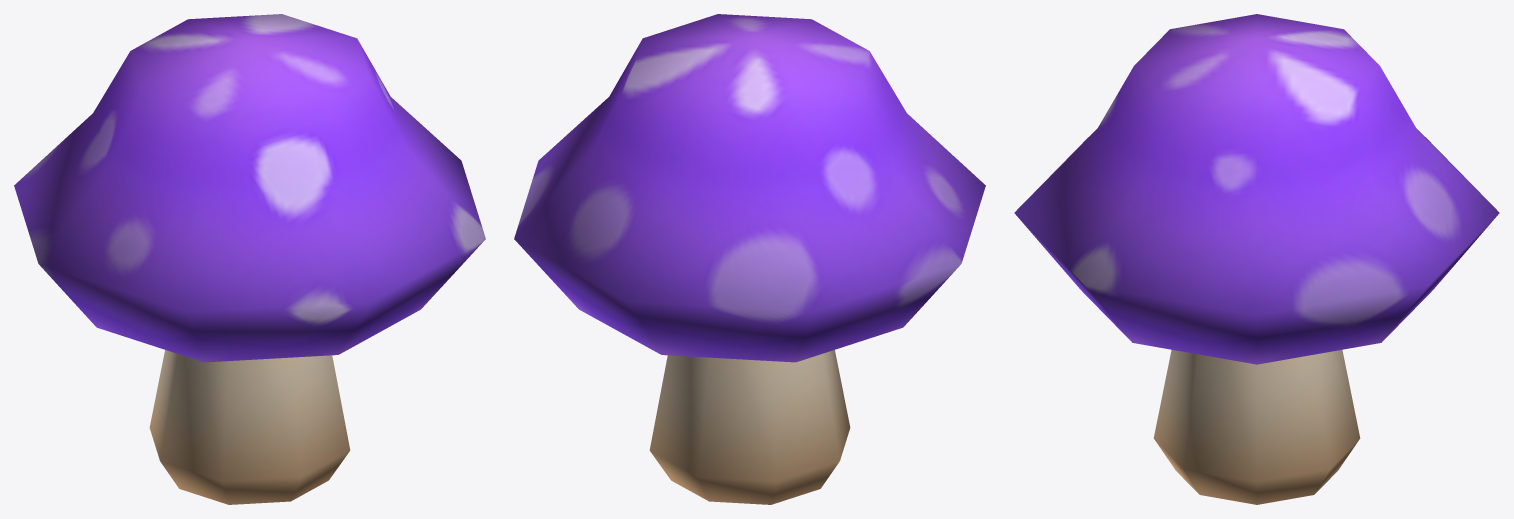
File: MushroomPurple01.FBX
3 views of the same model, side by side, from view 1: azimuth 30°, elevation 25°; view 2: azimuth 150°, elevation 25°; view 3: azimuth 270°, elevation 25° (orthographic).
Visible parts, largest first — view 1: MushroomPurple01; view 2: MushroomPurple01; view 3: MushroomPurple01.
Boxes of the visible parts, box(x1,y1,x2,y2) form: MushroomPurple01: box(14, 14, 485, 504); MushroomPurple01: box(514, 14, 985, 504); MushroomPurple01: box(1014, 14, 1499, 504).
Size of the model in its own units: 152 by 155 by 152.
